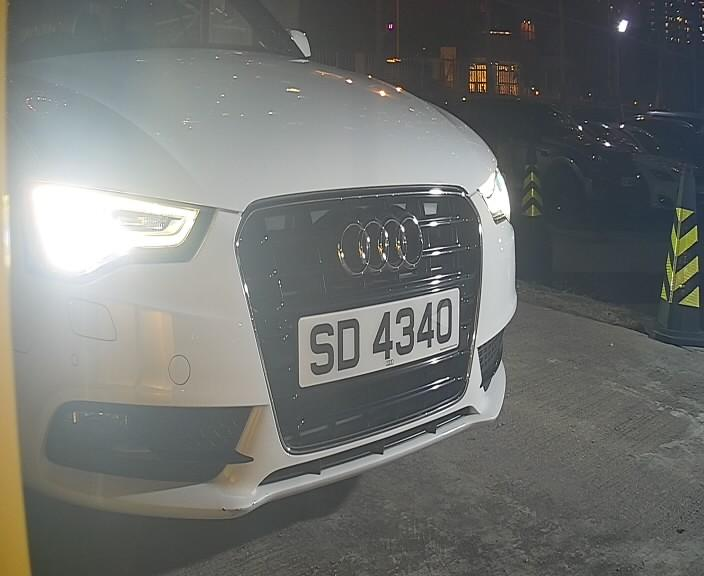Car: (4, 8, 557, 533)
License Plate: (290, 281, 459, 389)
